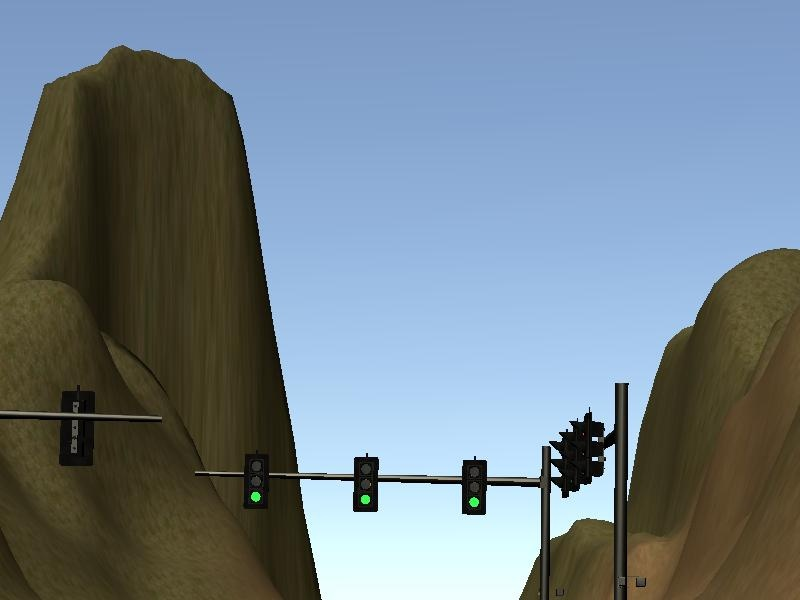GREEN: (353, 457, 379, 511), (243, 454, 269, 508), (461, 461, 487, 515)
